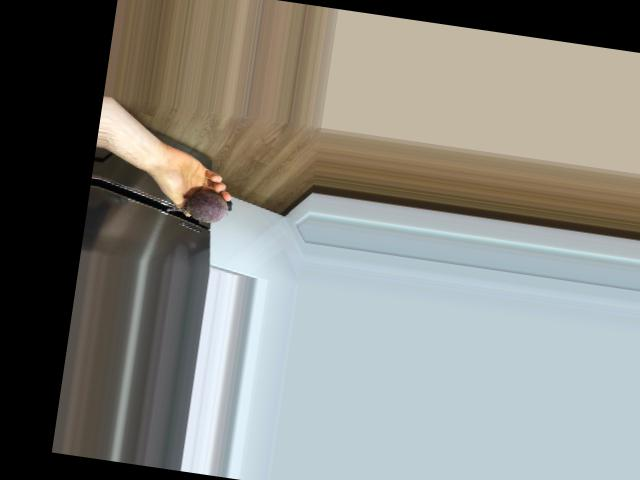beet: (167, 186, 234, 225)
